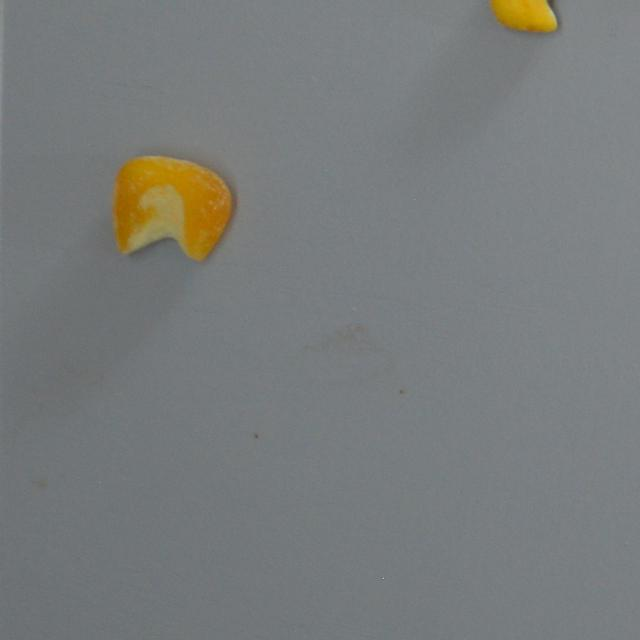no_canjicado: (486, 0, 586, 36)
pelicula: (110, 154, 234, 262)
